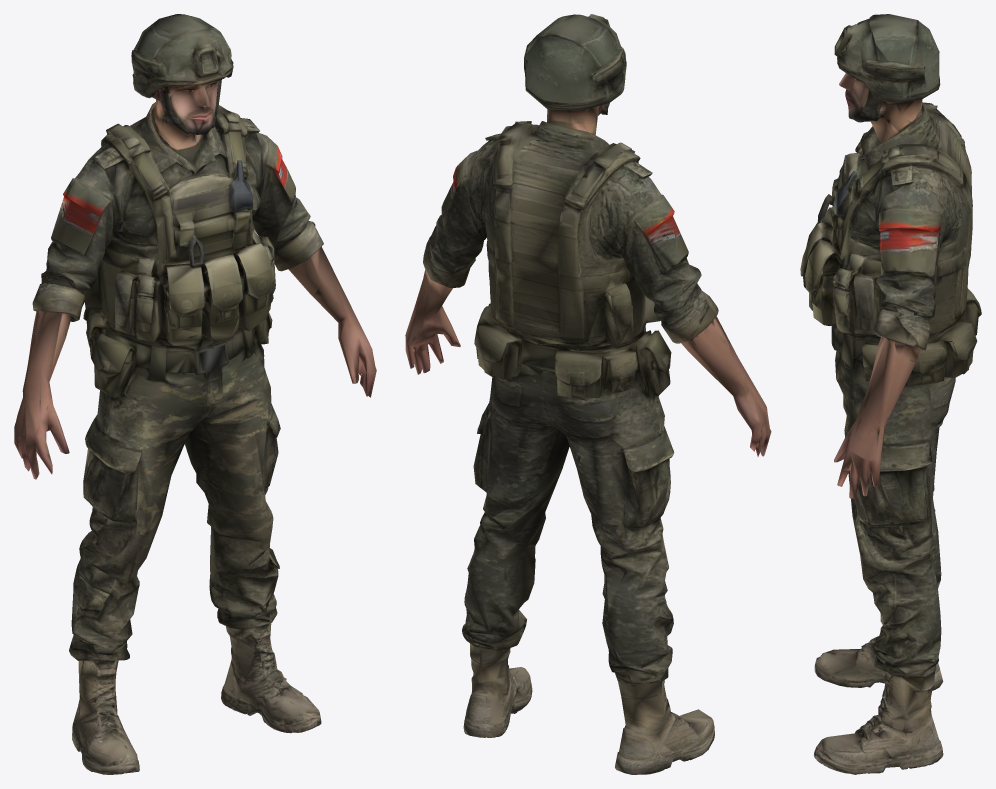
3 views of the same model, side by side, from view 1: azimuth 30°, elevation 25°; view 2: azimuth 150°, elevation 25°; view 3: azimuth 270°, elevation 25° (orthographic).
Visible parts, largest first — view 1: node_0; view 2: node_0; view 3: node_0.
Boxes of the visible parts, x1,y1,x2,y2 form: node_0: (14, 14, 376, 774); node_0: (405, 14, 771, 774); node_0: (800, 14, 981, 774).
Size of the model in its own units: 0.5915 by 1.14 by 0.266.
1 material, 1 textured.
